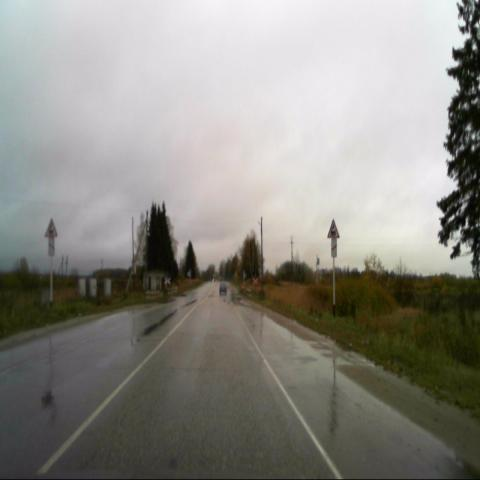1_2: (327, 217, 340, 239)
